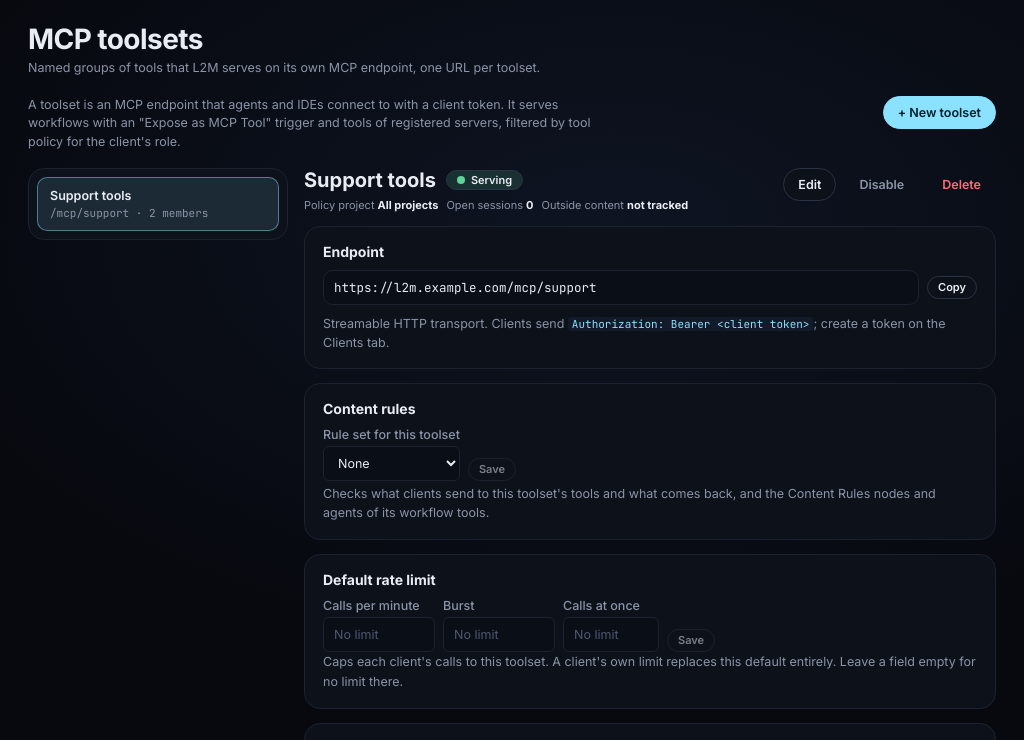
Test: MCP gateway views › shows and edits the per-session outside-content switch, off by default
Check: the element with test id "toolset-session-tracking" reads "Outside content not tracked", box [542,198,688,212]
Click the button "Edit" at point(810, 184), box [783,168,836,201]
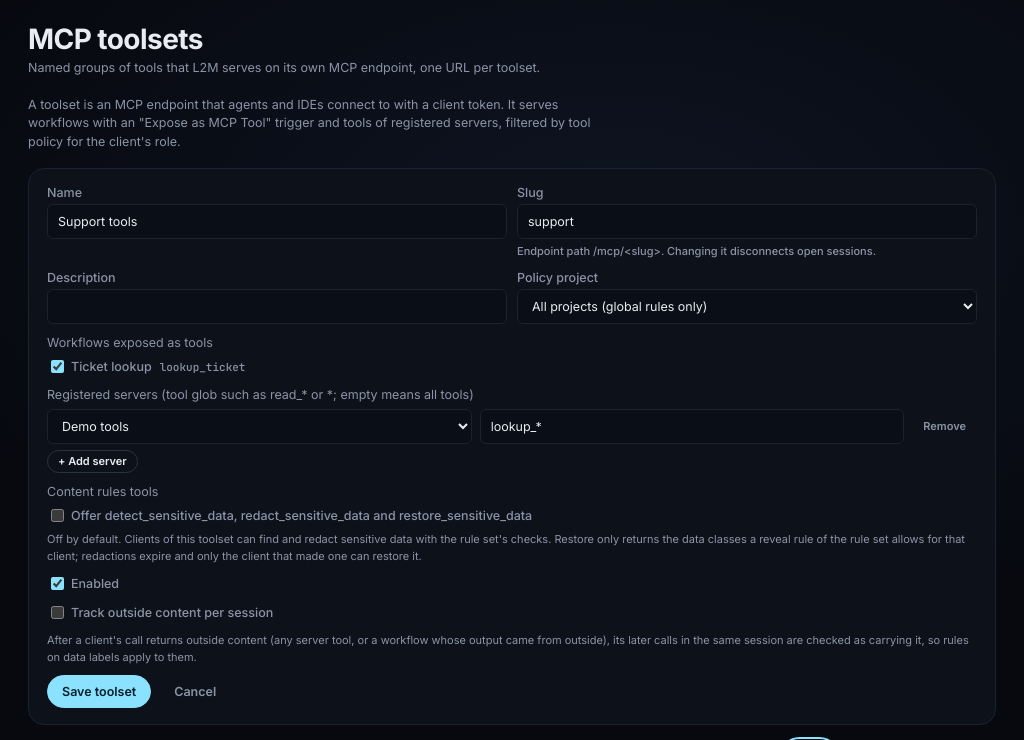
Click the checkbox labelled "Track outside content per session" at point(58, 613), box [51,606,64,619]
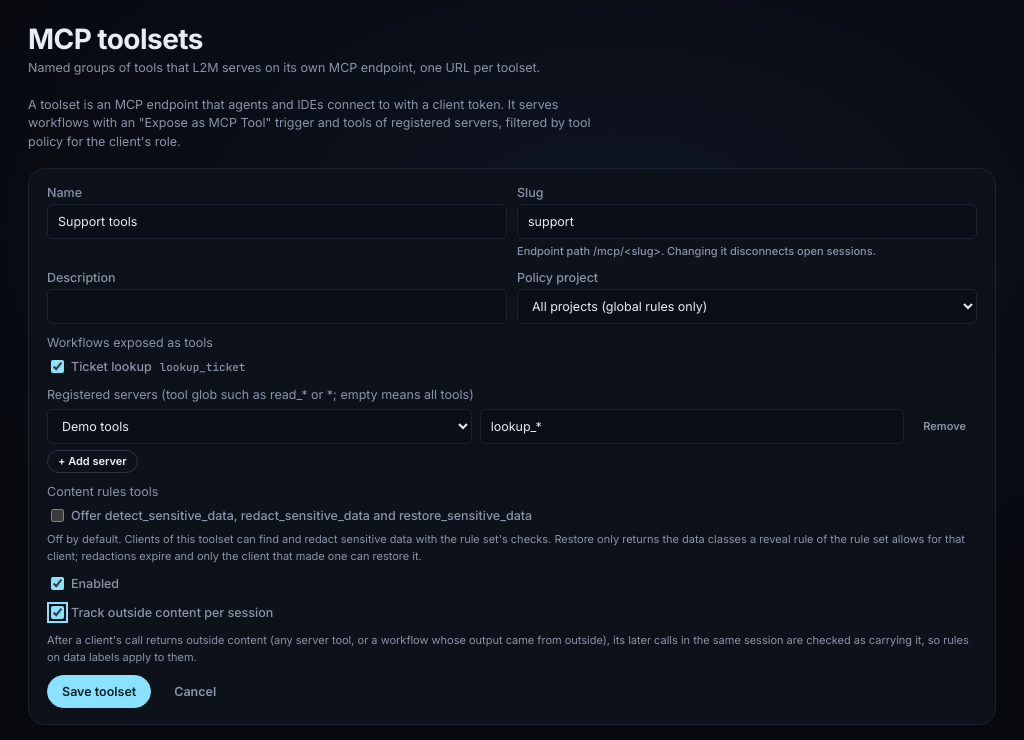
Click the button "Save toolset" at point(99, 692), box [47,675,151,708]
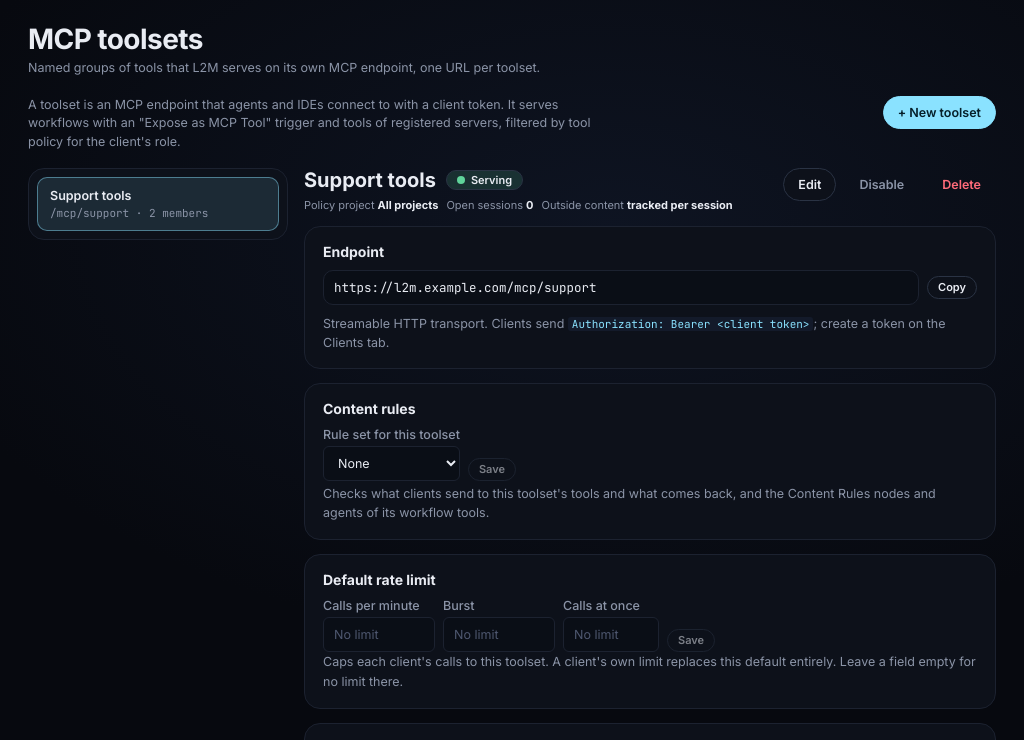
Check: the element with test id "toolset-session-tracking" reads "Outside content tracked per session", box [542,198,733,212]
